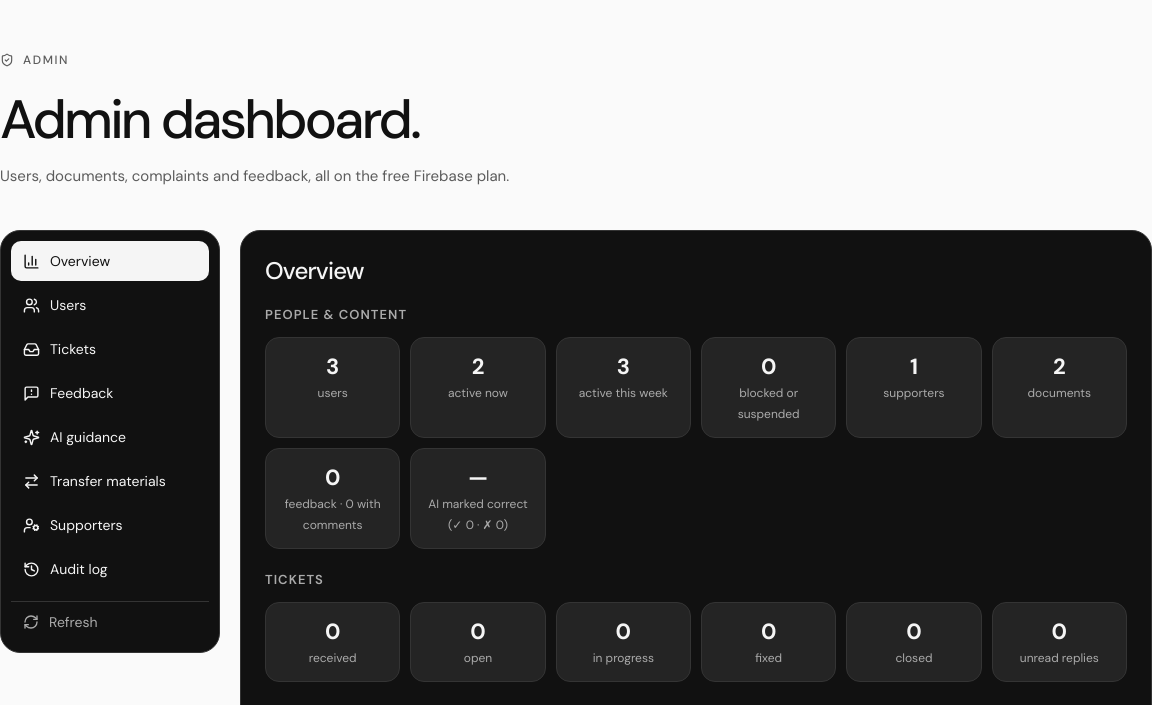
Scenario: admin: supporters › makes or removes a supporter from a user's page too, with a badge in the list
Expected: the text "active now" is shown, [448,385,508,401]
Step 1. Click the button "Users" → (110, 305), box [11,285,209,325]
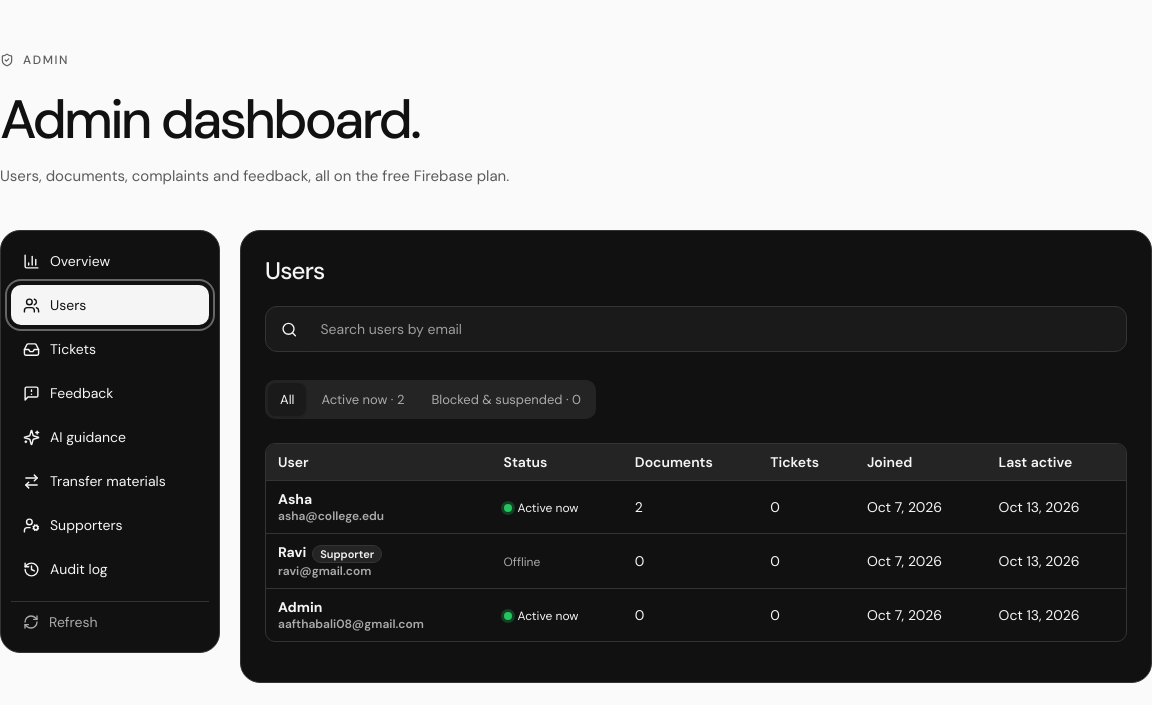
Expected: the text "Supporter" is shown, [312,545,382,563]
Step 2. Click the button with aria-label "Open asha@college.edu" → (331, 507), box [278,490,384,524]
(page scrolled)
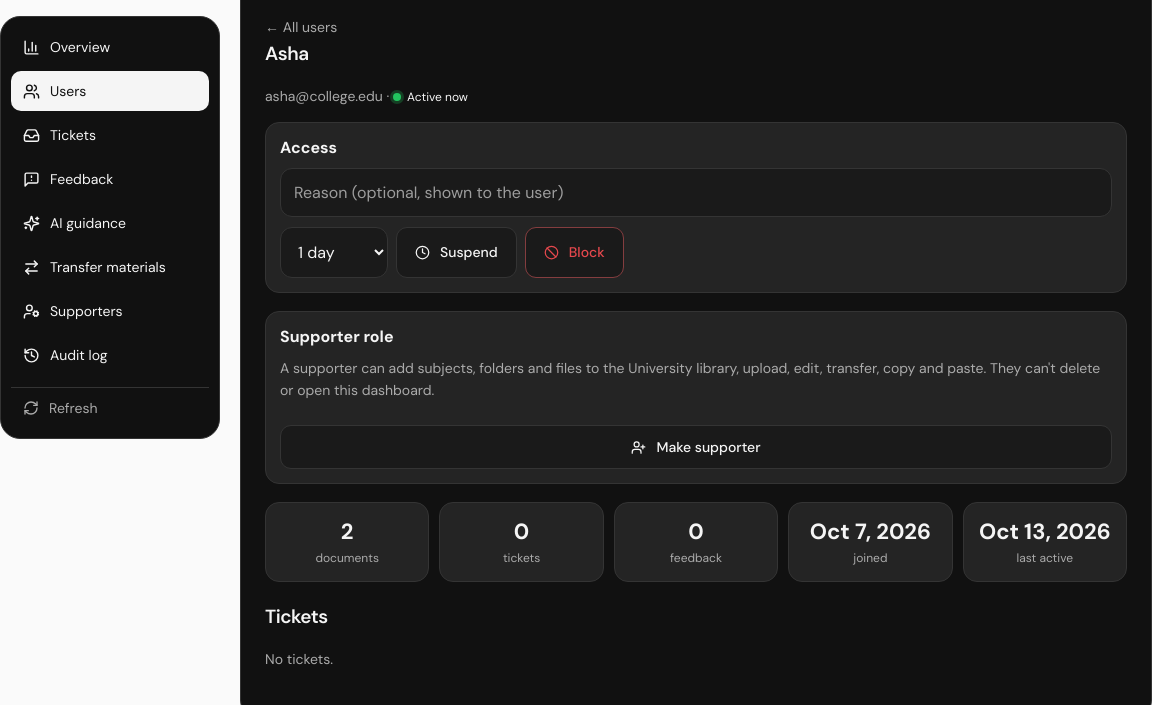
Step 3. Click the button "Make supporter" → (696, 448), box [280,426,1112,470]
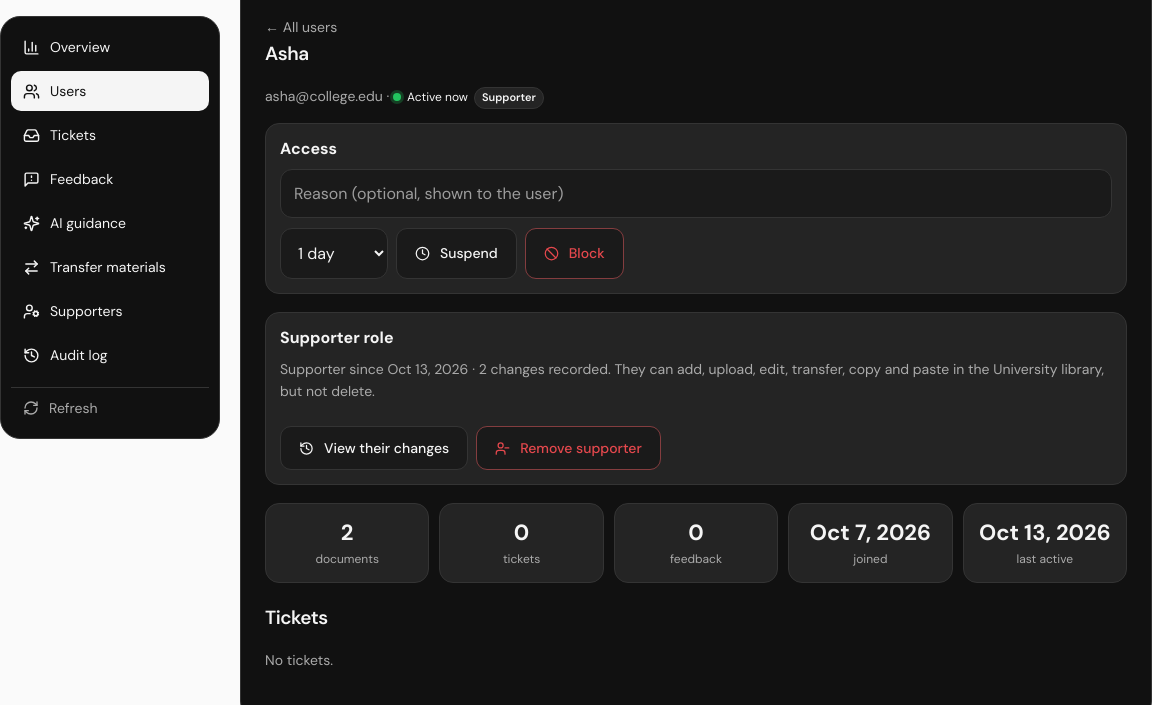
Expected: the button "Remove supporter" is shown, [476,426,661,470]
Step 4. Click the button "View their changes" → (374, 448), box [280,426,468,470]
(page scrolled)
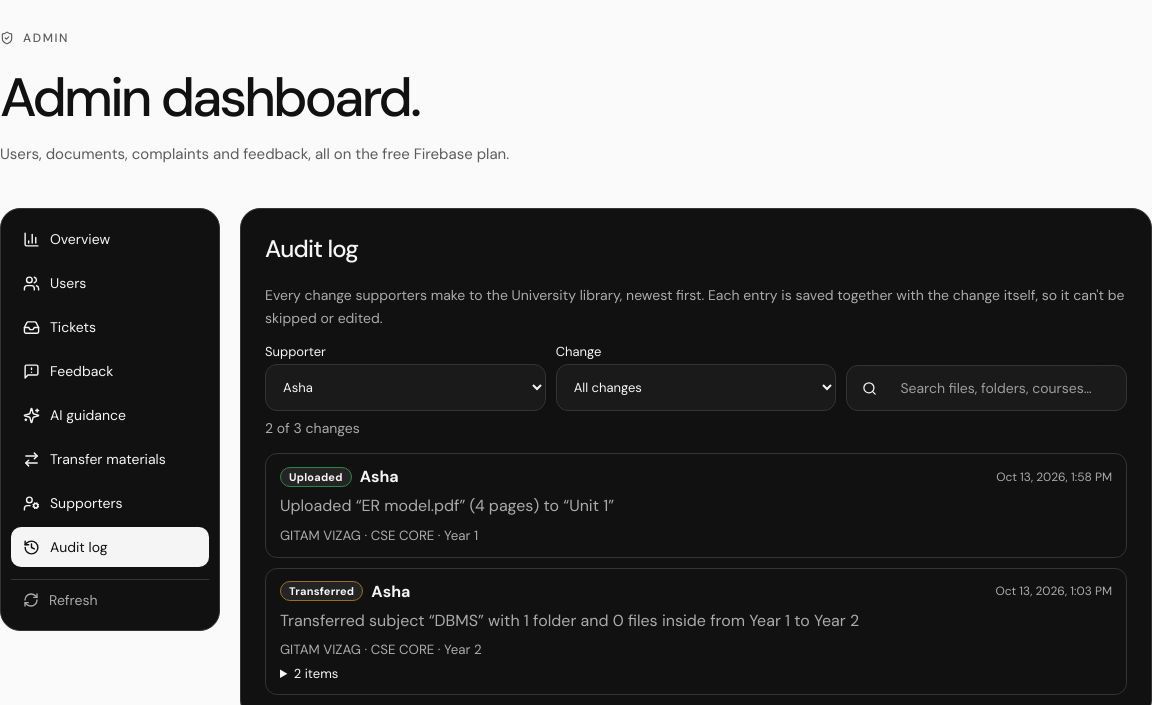
Expected: the heading "Audit log" is shown, [265,233,358,264]
Expected: the message reads "2 of 3 changes", [265,419,360,437]
